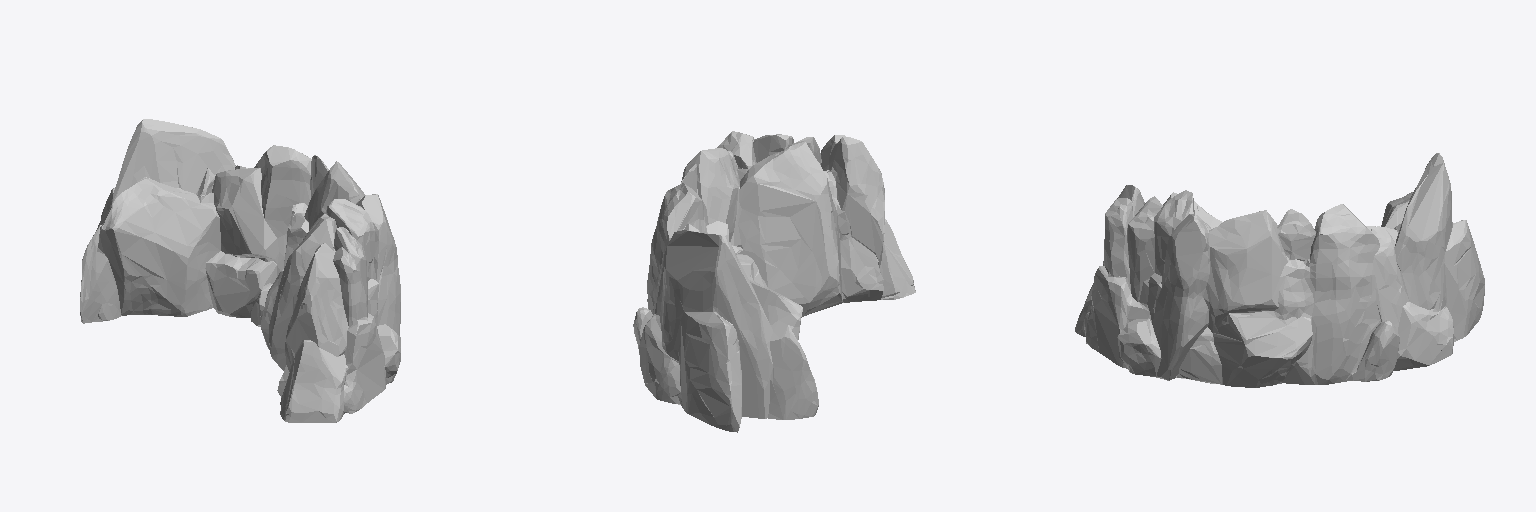
The model's file is SM_Rock_Formation_03_V3.obj.
The picture shows the model from 3 angles: view 1: azimuth 30°, elevation 25°; view 2: azimuth 150°, elevation 25°; view 3: azimuth 270°, elevation 25°; orthographic projection.
Visible parts, largest first — view 1: SM_Rock_Formation_03_V3; view 2: SM_Rock_Formation_03_V3; view 3: SM_Rock_Formation_03_V3.
Part boxes in pixels (bbox=[...]): SM_Rock_Formation_03_V3: bbox=[80, 119, 400, 422]; SM_Rock_Formation_03_V3: bbox=[633, 131, 915, 432]; SM_Rock_Formation_03_V3: bbox=[1075, 153, 1484, 387].
Size of the model in its own units: 556 by 407 by 873.